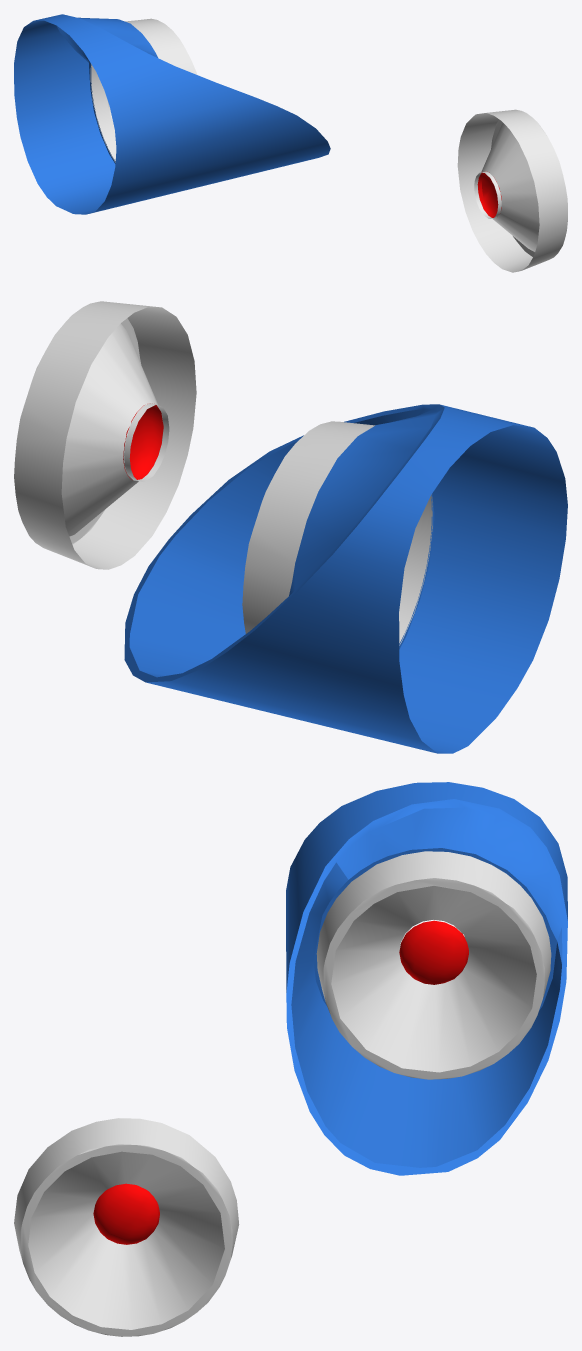
File: Alpin A110.fbx
3 renders of one model, top to bottom at view 1: azimuth 30°, elevation 25°; view 2: azimuth 150°, elevation 25°; view 3: azimuth 270°, elevation 25°, orthographic. The views are drawn at different scales.
Visible parts, largest first — view 1: Alpin A110; view 2: Alpin A110; view 3: Alpin A110.
Boxes of the visible parts, x1,y1,x2,y2 form: Alpin A110: (14, 14, 567, 272); Alpin A110: (14, 301, 567, 753); Alpin A110: (14, 782, 567, 1336).
Size of the model in its own units: 59.58 by 37.48 by 58.47.
